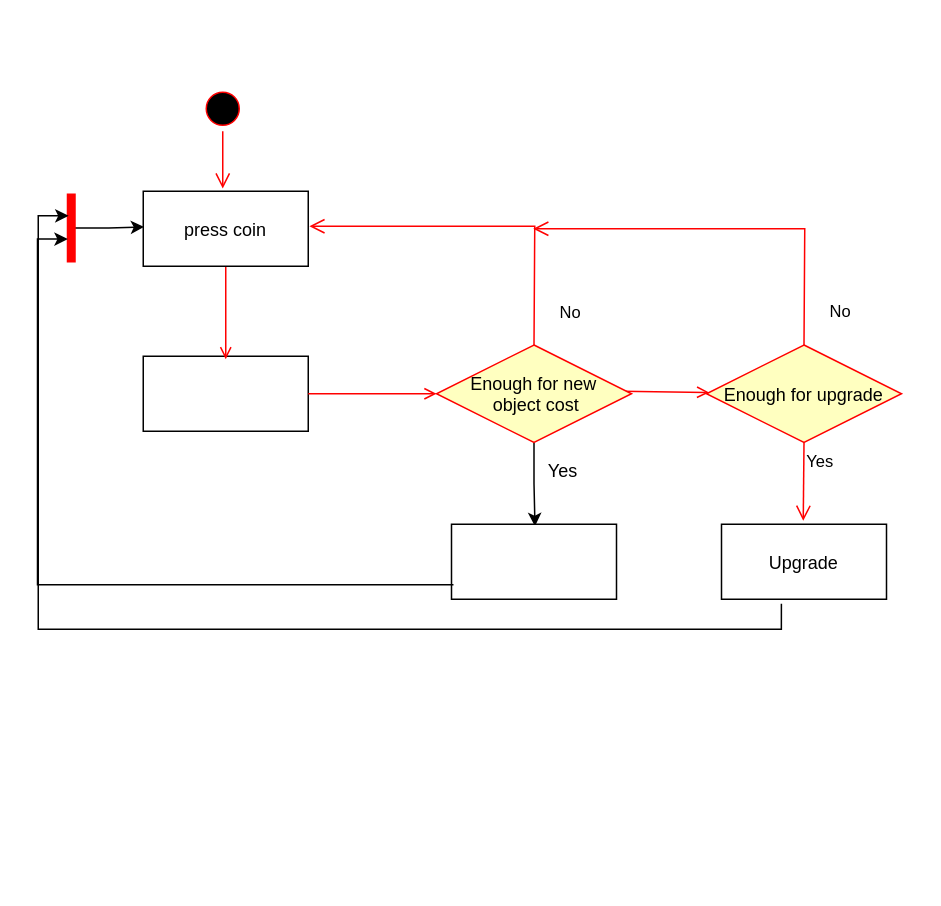
Image size: 941x906. Some labels were removed from this diagram. The centre of each missing label's shape, as x and y in pixels:
Buy new object: point (533, 561)
get point: point (225, 393)
